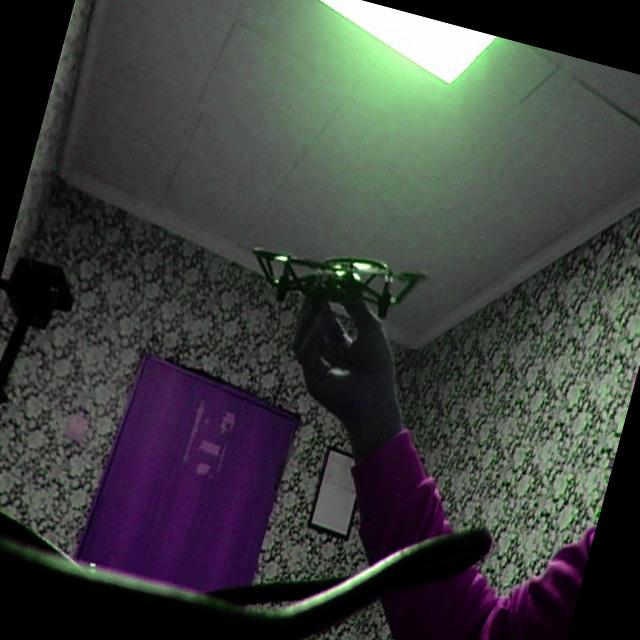drone: (239, 208, 434, 344)
